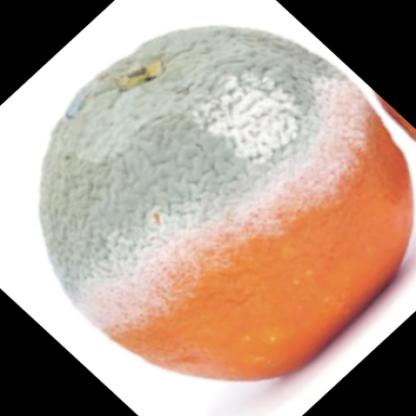rotten: (40, 28, 416, 382)
